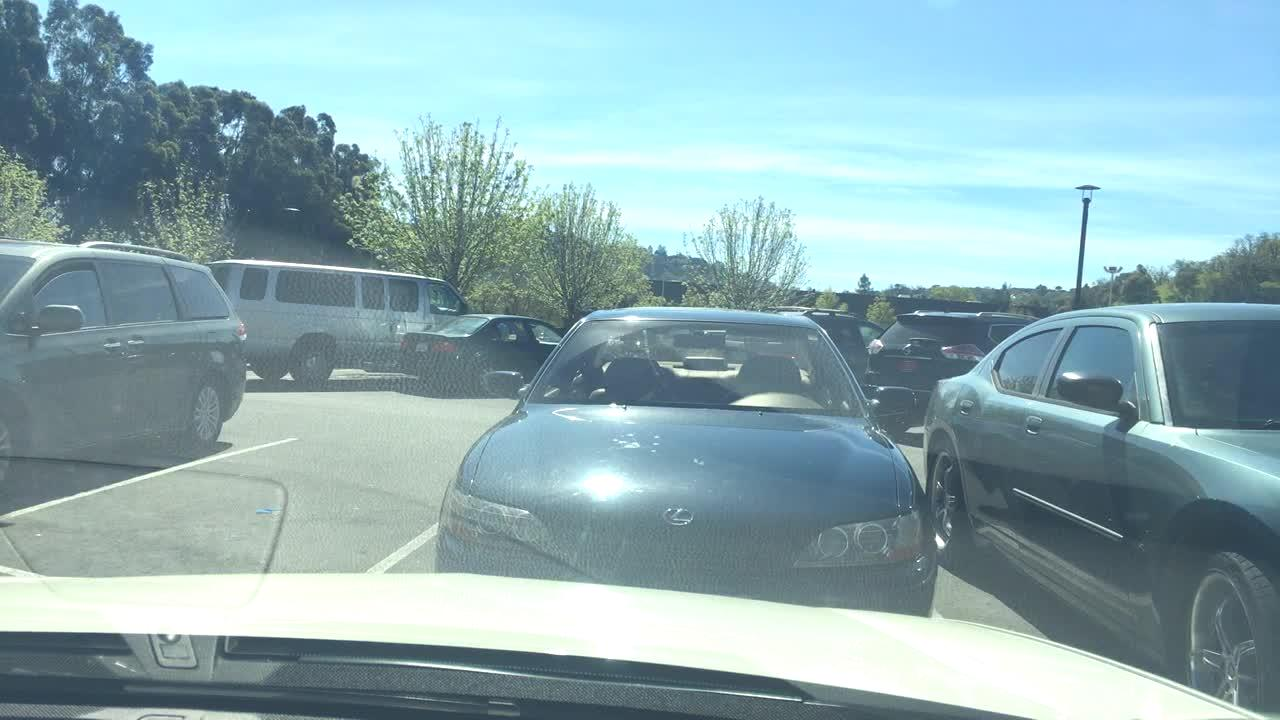lexus: (658, 503, 703, 533)
